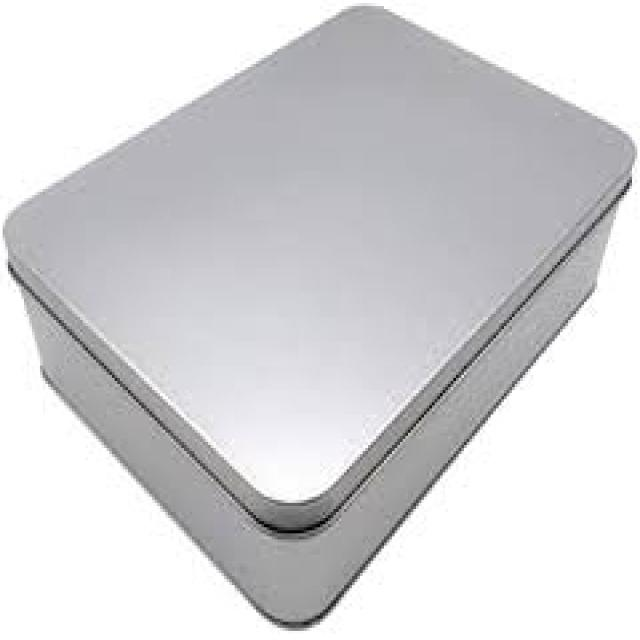kim_loai: (3, 6, 637, 631)
